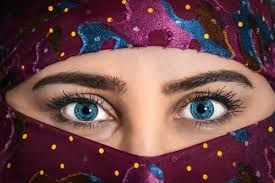pupil: (190, 99, 213, 119), (75, 102, 97, 121)
